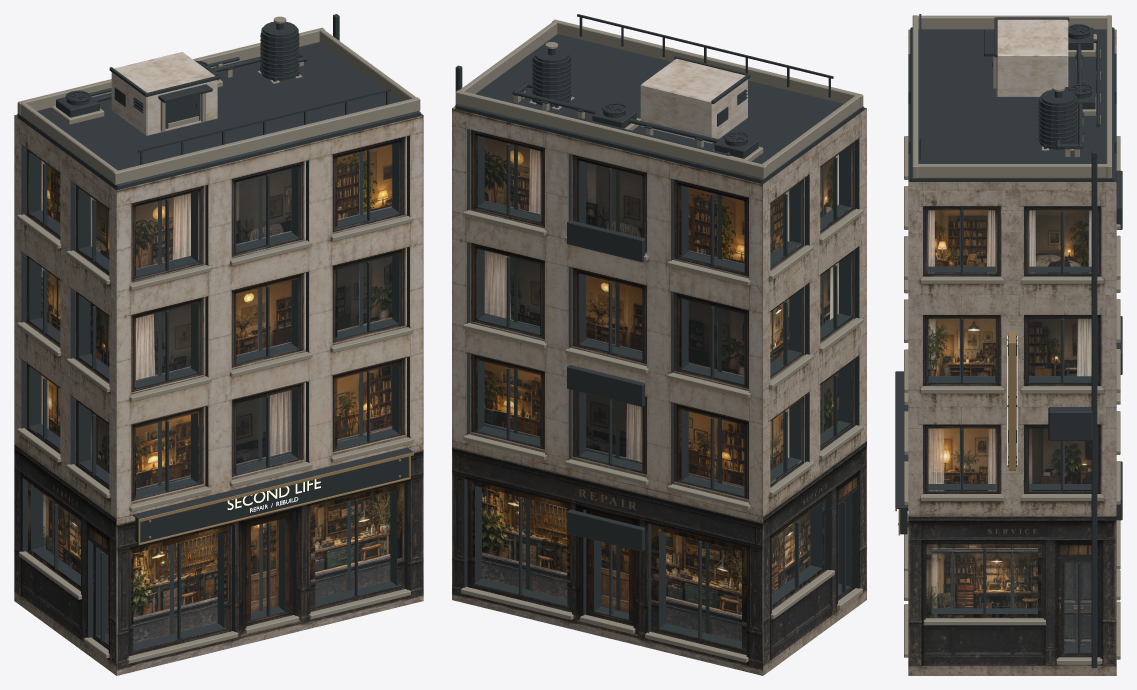
Rendered from repair-relief-v5.glb.
The picture shows the model from 3 angles, left to right: view 1: azimuth 30°, elevation 25°; view 2: azimuth 150°, elevation 25°; view 3: azimuth 270°, elevation 25°; orthographic projection.
Visible parts, largest first — view 1: ReliefBuilding_WallFront, ReliefBuilding_Metal, ReliefBuilding_RoomFront, ReliefBuilding_WallSide, ReliefBuilding_Stone, ReliefBuilding_RoomSide, Identity_RI_Enamel, RR_Metal, Identity_RI_Brass, Identity_RB_Metal, RR_Stone; view 2: ReliefBuilding_WallFront, ReliefBuilding_Metal, ReliefBuilding_RoomFront, ReliefBuilding_WallSide, ReliefBuilding_Stone, ReliefBuilding_RoomSide, RR_Metal, RR_Stone; view 3: ReliefBuilding_WallSide, ReliefBuilding_Metal, ReliefBuilding_RoomSide, ReliefBuilding_Stone, RR_Metal, Identity_RB_Metal, Identity_RI_Brass, RR_Stone.
Part boxes in pixels (x1,y1,x2,y2): ReliefBuilding_WallFront: (14, 114, 423, 675); ReliefBuilding_Metal: (17, 14, 420, 649); ReliefBuilding_RoomFront: (133, 144, 392, 643); ReliefBuilding_WallSide: (14, 113, 423, 675); ReliefBuilding_Stone: (17, 27, 420, 663); ReliefBuilding_RoomSide: (41, 161, 109, 632); Identity_RI_Enamel: (135, 456, 408, 542); RR_Metal: (56, 22, 307, 128); Identity_RI_Brass: (138, 452, 413, 545); Identity_RB_Metal: (132, 447, 413, 519); RR_Stone: (51, 16, 303, 132); ReliefBuilding_WallFront: (452, 107, 866, 675); ReliefBuilding_Metal: (455, 14, 863, 648); ReliefBuilding_RoomFront: (482, 137, 744, 641); ReliefBuilding_WallSide: (452, 106, 866, 675); ReliefBuilding_Stone: (455, 19, 863, 662); ReliefBuilding_RoomSide: (770, 154, 838, 593); RR_Metal: (512, 47, 758, 158); RR_Stone: (513, 42, 763, 161); ReliefBuilding_WallSide: (908, 29, 1116, 675); ReliefBuilding_Metal: (908, 14, 1122, 667); ReliefBuilding_RoomSide: (928, 210, 1091, 646); ReliefBuilding_Stone: (904, 15, 1120, 664); RR_Metal: (984, 17, 1099, 149); Identity_RB_Metal: (895, 342, 1016, 526); Identity_RI_Brass: (895, 332, 1015, 535); RR_Stone: (993, 34, 1100, 156).
Size of the model in its own units: 9.94 by 15.25 by 5.67.
Materials: 13 (5 with a texture image).
